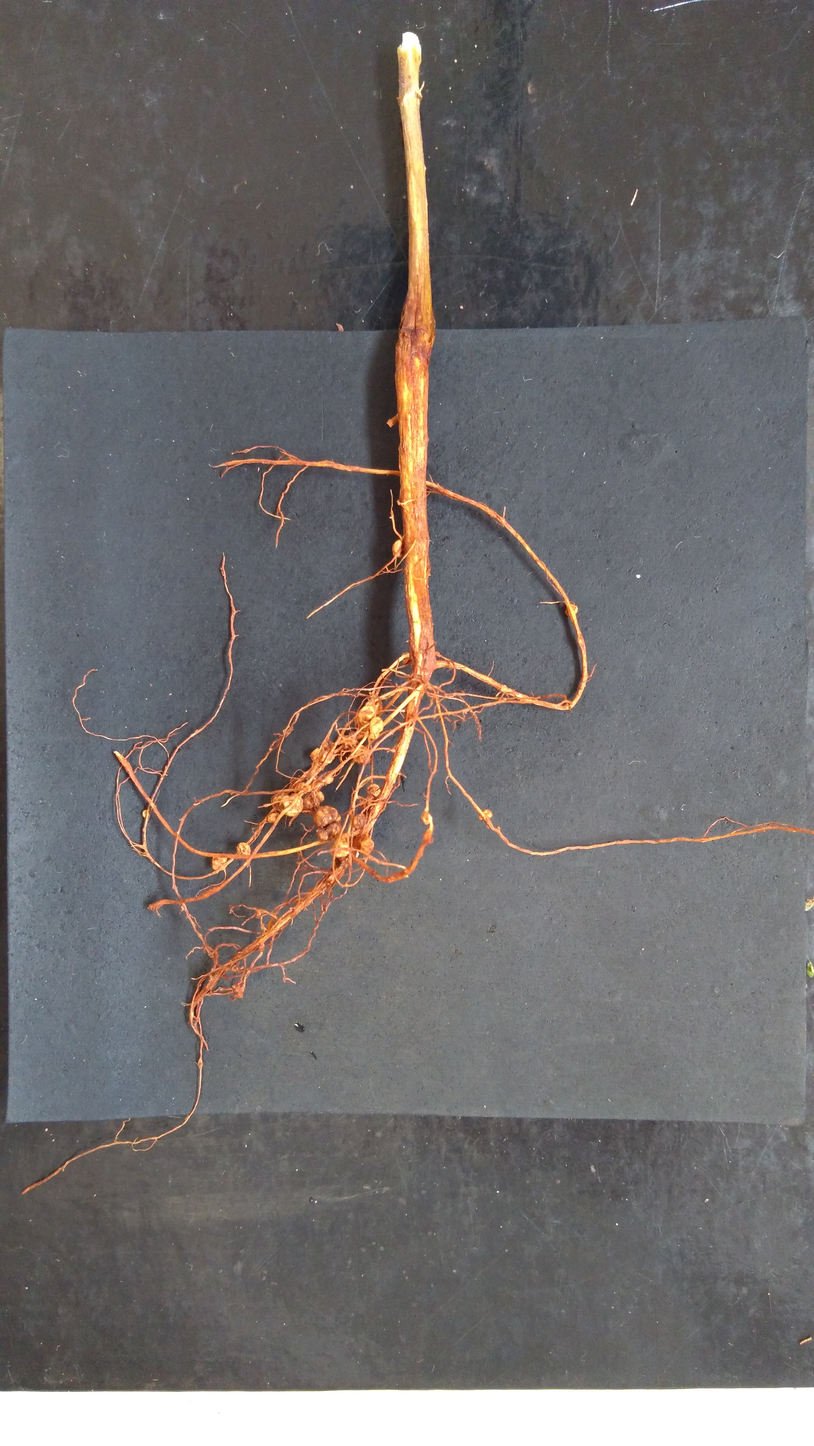nodule: (268, 790, 304, 816), (312, 804, 341, 826), (315, 823, 341, 842), (356, 837, 379, 857), (351, 744, 371, 764), (332, 841, 355, 858), (368, 716, 384, 740), (365, 697, 384, 716), (209, 854, 230, 869), (356, 705, 375, 721), (351, 813, 368, 829), (235, 840, 250, 858), (392, 539, 406, 558), (419, 811, 436, 826), (366, 782, 381, 797), (321, 750, 336, 765), (342, 735, 357, 750), (265, 811, 280, 825), (564, 603, 579, 617), (478, 808, 493, 821), (295, 782, 311, 793), (309, 747, 320, 762), (315, 790, 326, 803), (321, 774, 335, 784), (305, 794, 313, 809), (142, 809, 150, 818)
